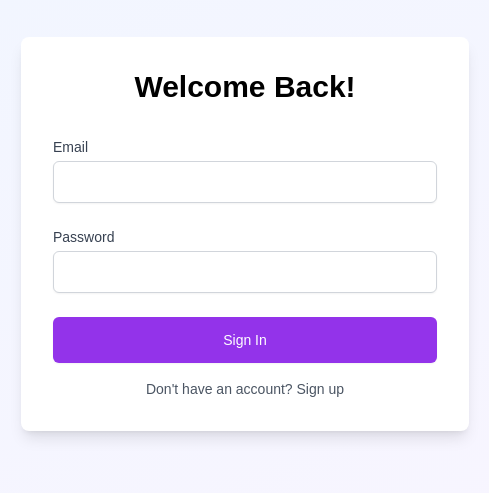
it: LoginPage › should handle login error
Step 1. Type "test@example.com" into the field labelled "Email" → point(245, 182), box x1=53 y1=161 x2=437 y2=203
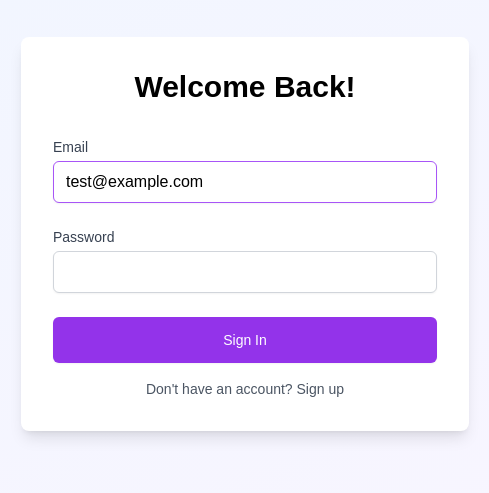
Step 2. Type "wrongpassword" into the password field labelled "Password" → point(245, 272), box x1=53 y1=251 x2=437 y2=293
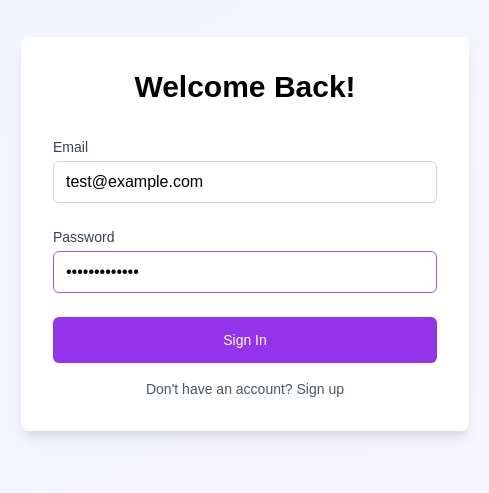
Step 3. Click the button "Sign In" → point(245, 340), box x1=53 y1=317 x2=437 y2=363
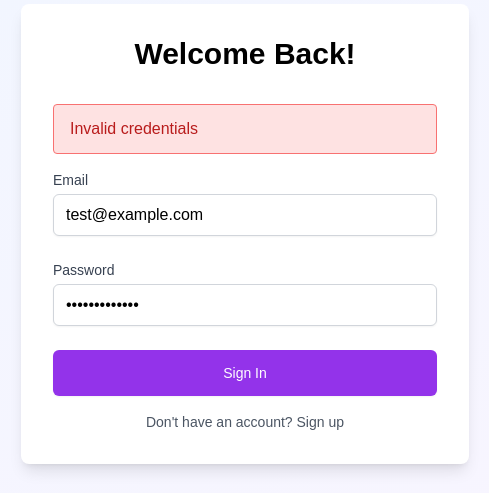
Expected: the text "Invalid credentials" is shown, x1=53 y1=104 x2=437 y2=154
